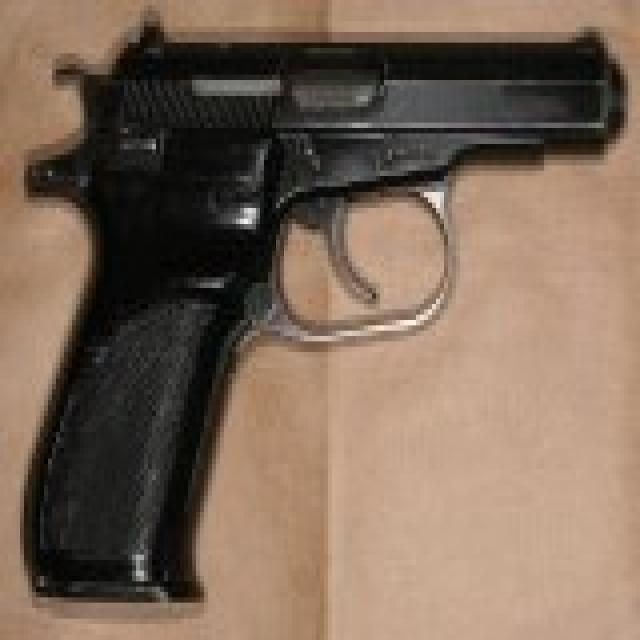Gun: (22, 0, 613, 605)
